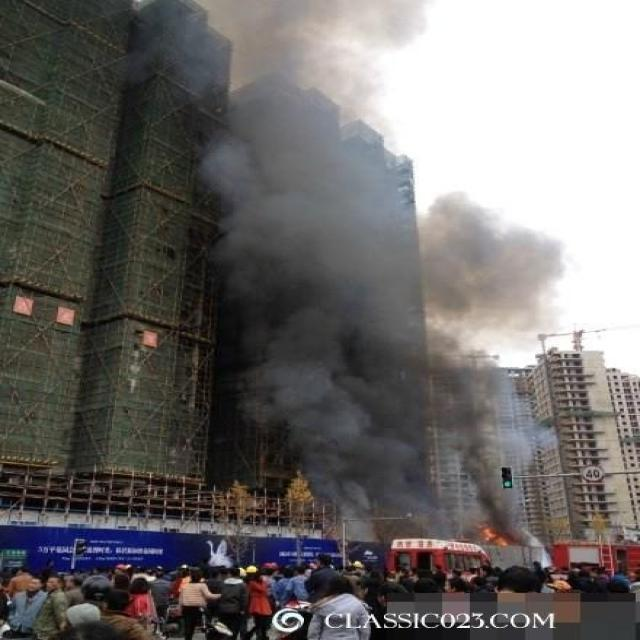Fire: (482, 526, 509, 548)
Smoke: (116, 1, 566, 548)
